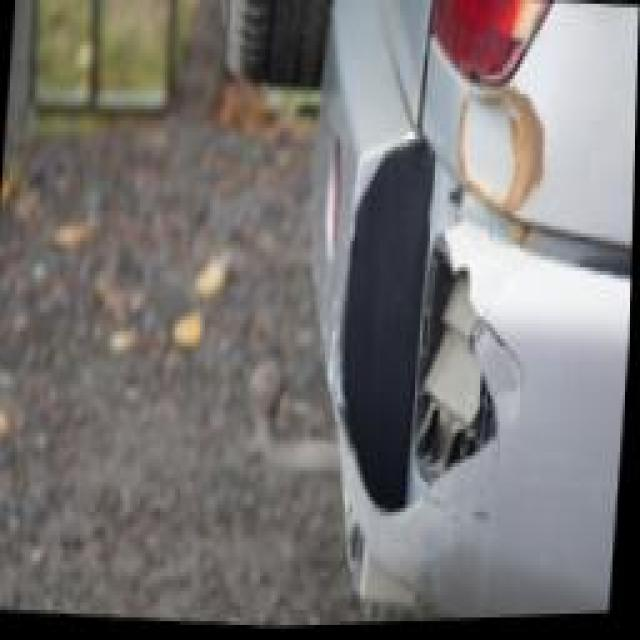Bumper: (320, 75, 565, 629)
